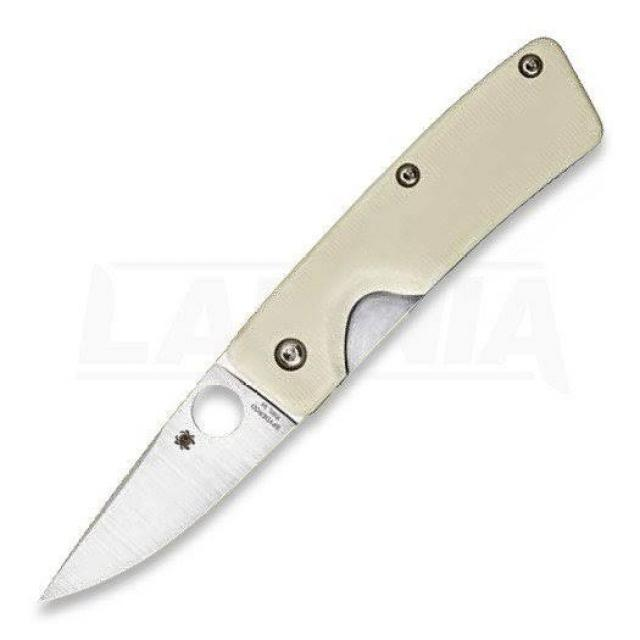knife: (35, 348, 298, 616)
